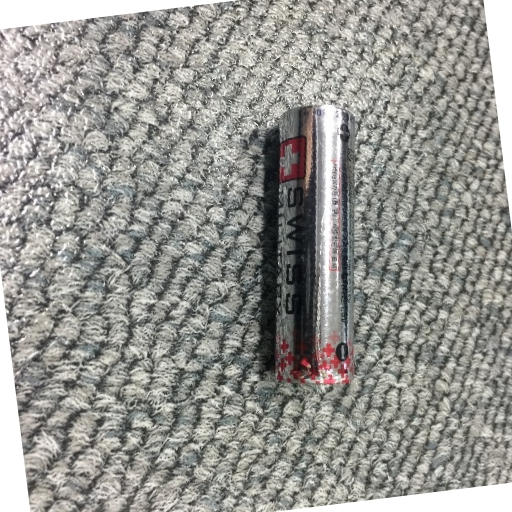Battery_0: (264, 97, 361, 394)
